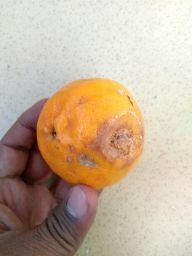Unripe: (36, 79, 147, 185)
